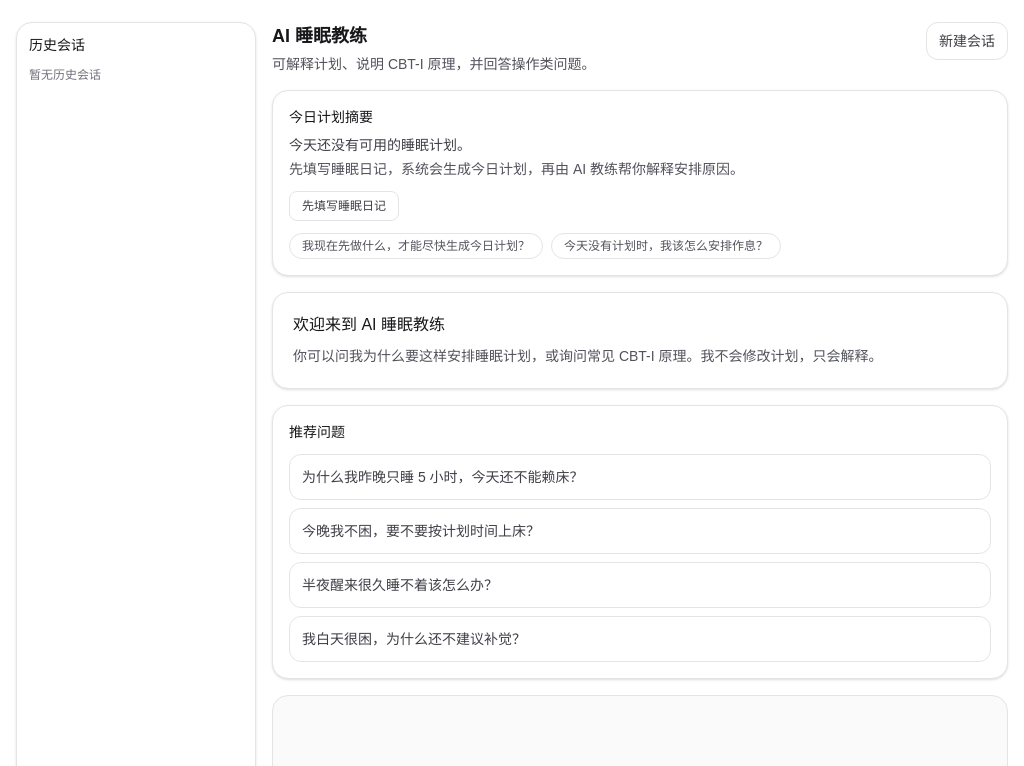
it: CoachShell › 无 active plan 时展示降级提示问题；点击后填入输入框且不自动发送
This screenshot has width=1024, height=766.
Click the button "我现在先做什么，才能尽快生成今日计划？".
click(416, 246)  # box top-left (289, 233), bottom-right (543, 259)
(page scrolled)
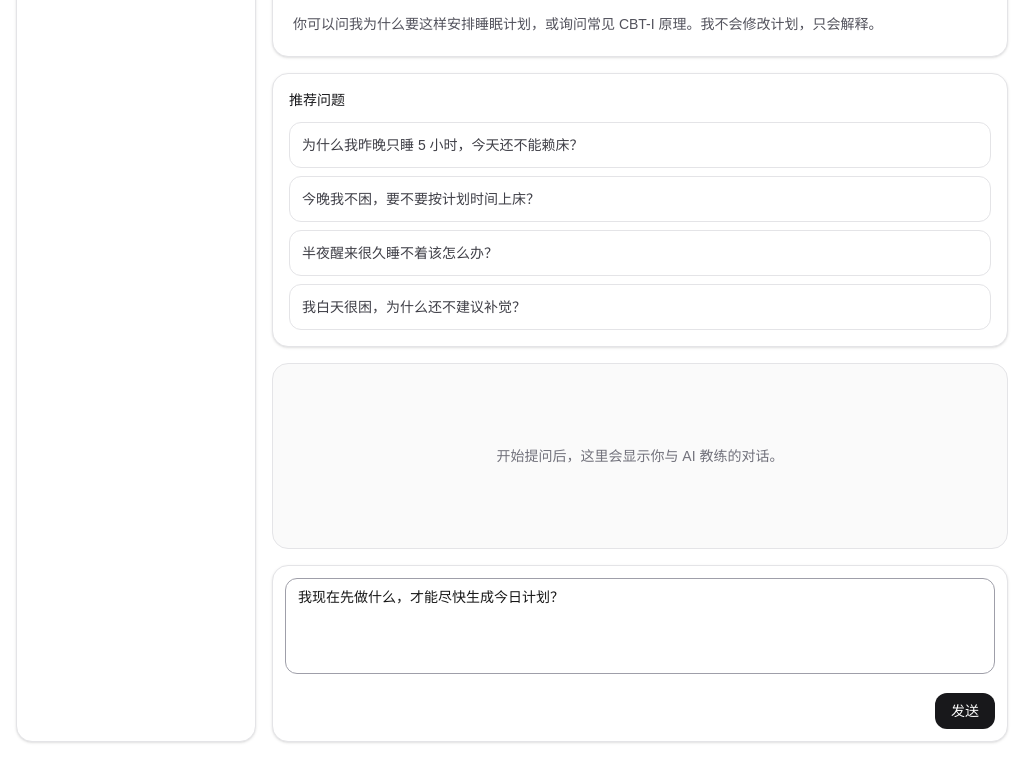
Result: the text box holds "我现在先做什么，才能尽快生成今日计划？" at top-left (285, 578), bottom-right (995, 674)
